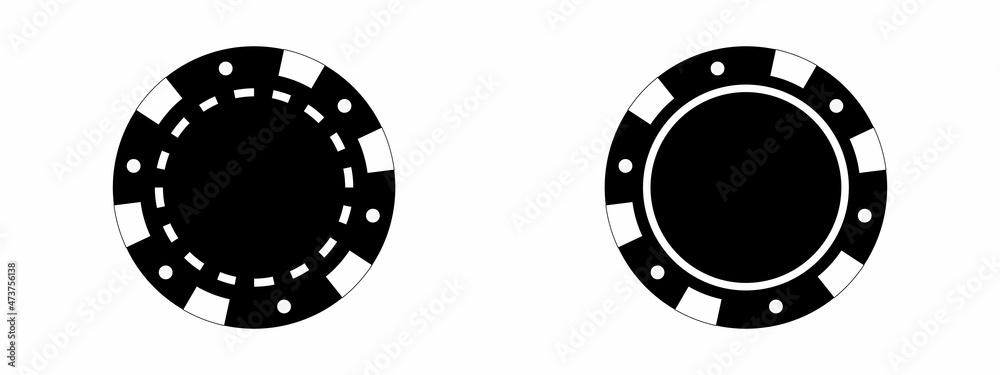chip-black: (0, 0, 1000, 375)
